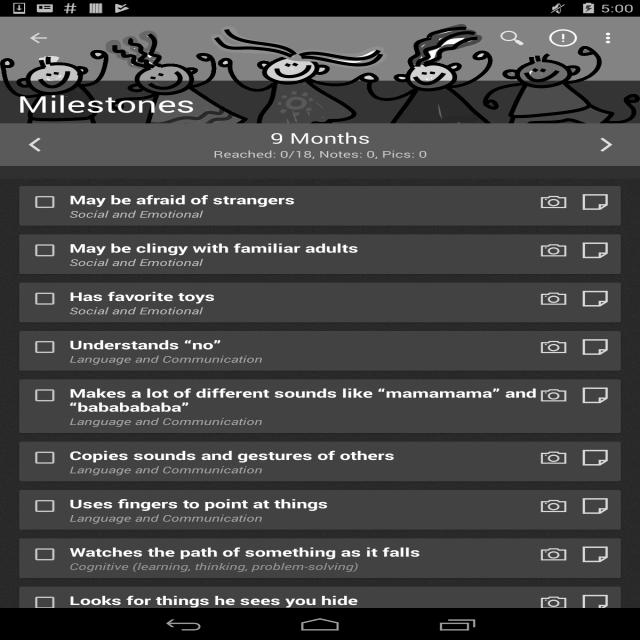CheckBox: (28, 191, 62, 213), (28, 336, 62, 358), (28, 495, 62, 517), (28, 240, 62, 261), (28, 288, 62, 309), (28, 385, 62, 406), (28, 447, 62, 468), (28, 544, 62, 565), (28, 592, 62, 613)
ImageButton: (9, 17, 68, 59), (7, 128, 61, 161), (579, 128, 633, 161)
ImageView: (0, 17, 640, 123), (589, 22, 631, 54), (536, 191, 570, 213), (578, 191, 612, 213), (536, 336, 570, 358), (578, 336, 612, 358), (536, 495, 570, 517), (578, 495, 612, 517), (536, 240, 570, 261), (578, 240, 612, 261), (536, 288, 570, 309), (578, 288, 612, 309), (536, 385, 570, 406), (578, 385, 612, 406), (536, 447, 570, 468), (578, 447, 612, 468), (536, 544, 570, 565), (578, 544, 612, 565), (536, 592, 570, 613), (578, 592, 612, 613)
TextView: (70, 385, 536, 415), (61, 128, 579, 148), (0, 166, 640, 179), (70, 191, 536, 208), (70, 336, 536, 353), (70, 495, 536, 512), (70, 240, 536, 256), (70, 288, 536, 304), (70, 447, 536, 463), (70, 544, 536, 560), (70, 592, 536, 608), (61, 148, 579, 160), (70, 256, 536, 269), (70, 304, 536, 317), (70, 415, 536, 428), (70, 463, 536, 476), (70, 560, 536, 573), (70, 208, 536, 220), (70, 353, 536, 365), (70, 512, 536, 524), (487, 22, 538, 54), (538, 22, 588, 54)
